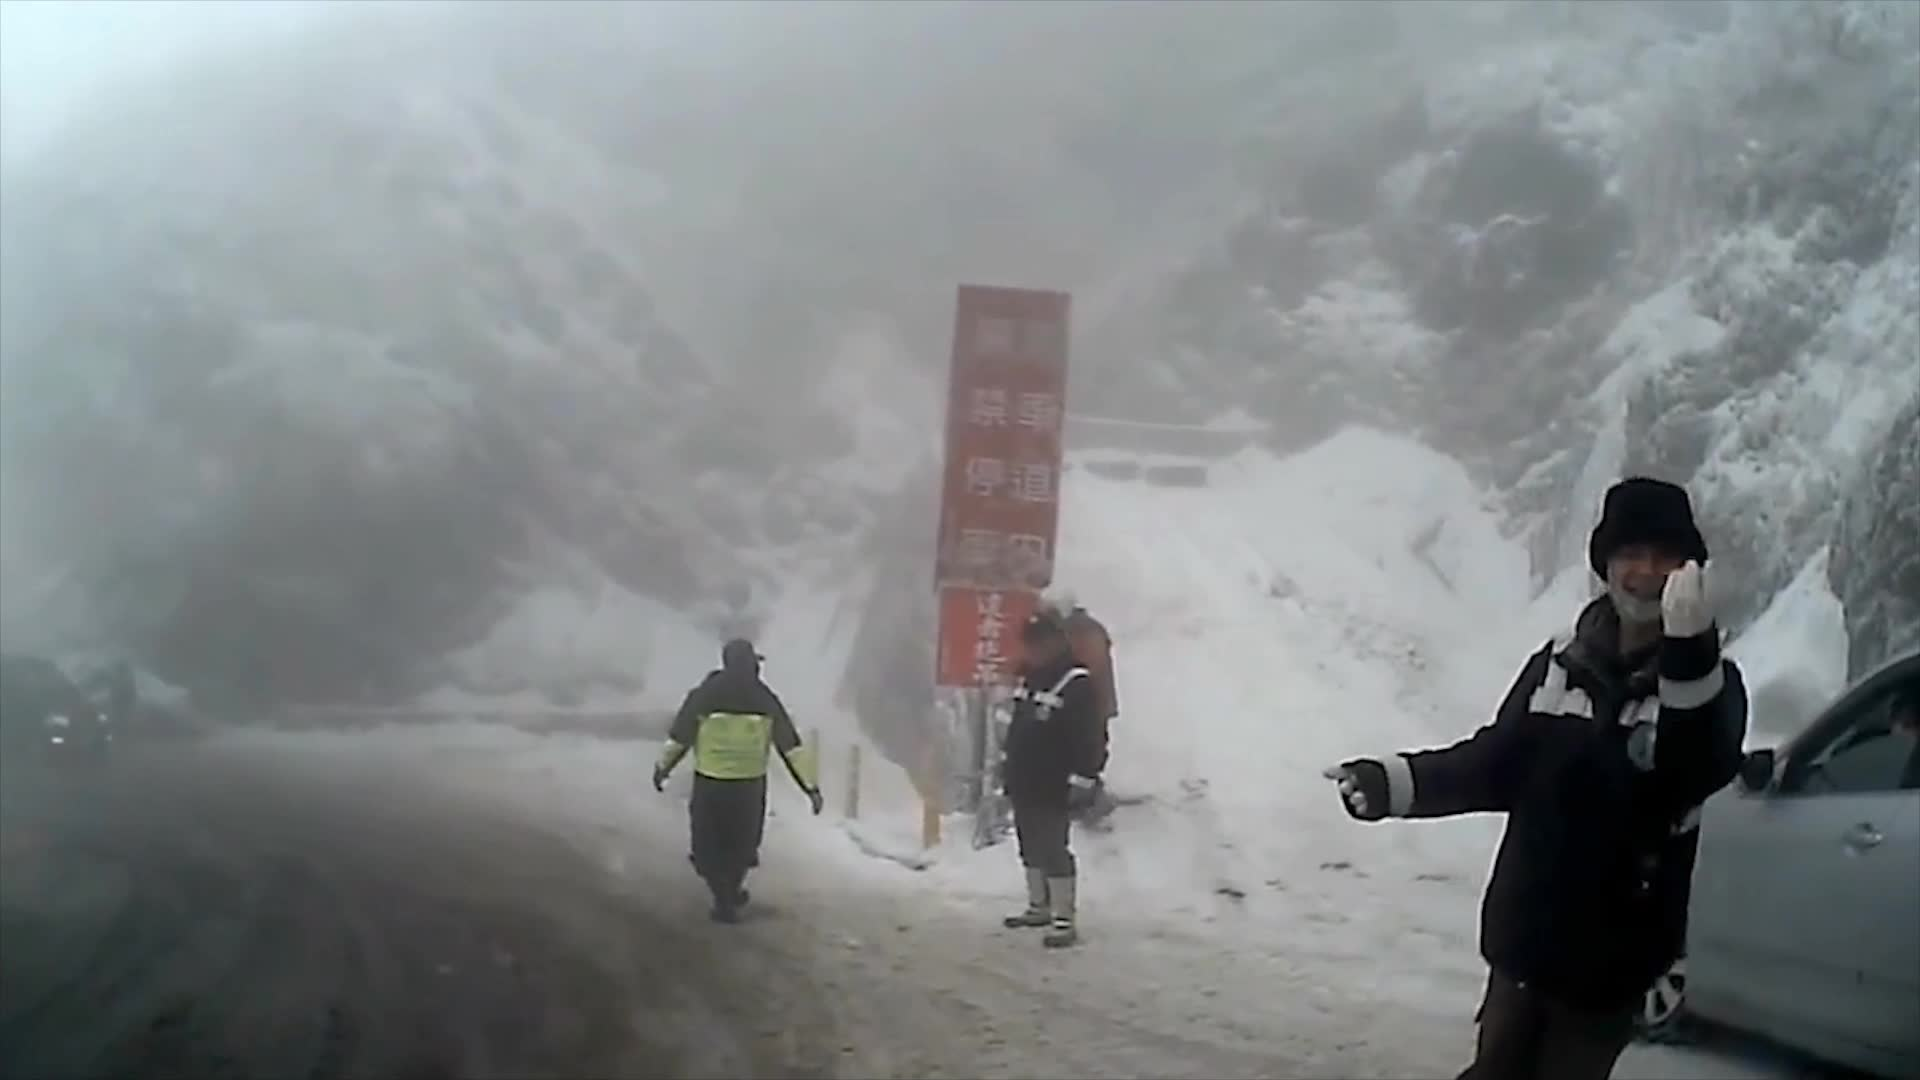pedestrian: (1339, 477, 1763, 1078), (662, 636, 813, 911), (1012, 609, 1120, 945)
vehicle: (1558, 648, 1919, 1079)
